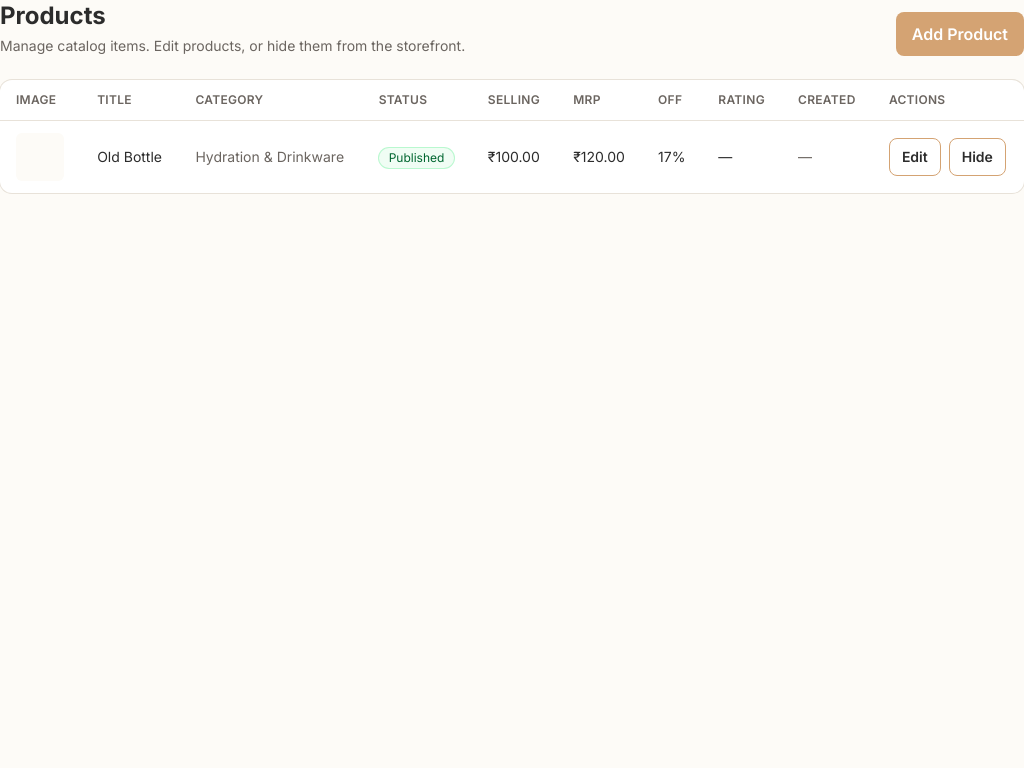
Scenario: AdminProductsPage › hides a product after confirmation and keeps the row
Expected: the text "Old Bottle" is shown, [81, 120, 179, 193]
Click the button "Hide" at (977,157), box [949, 138, 1006, 176]
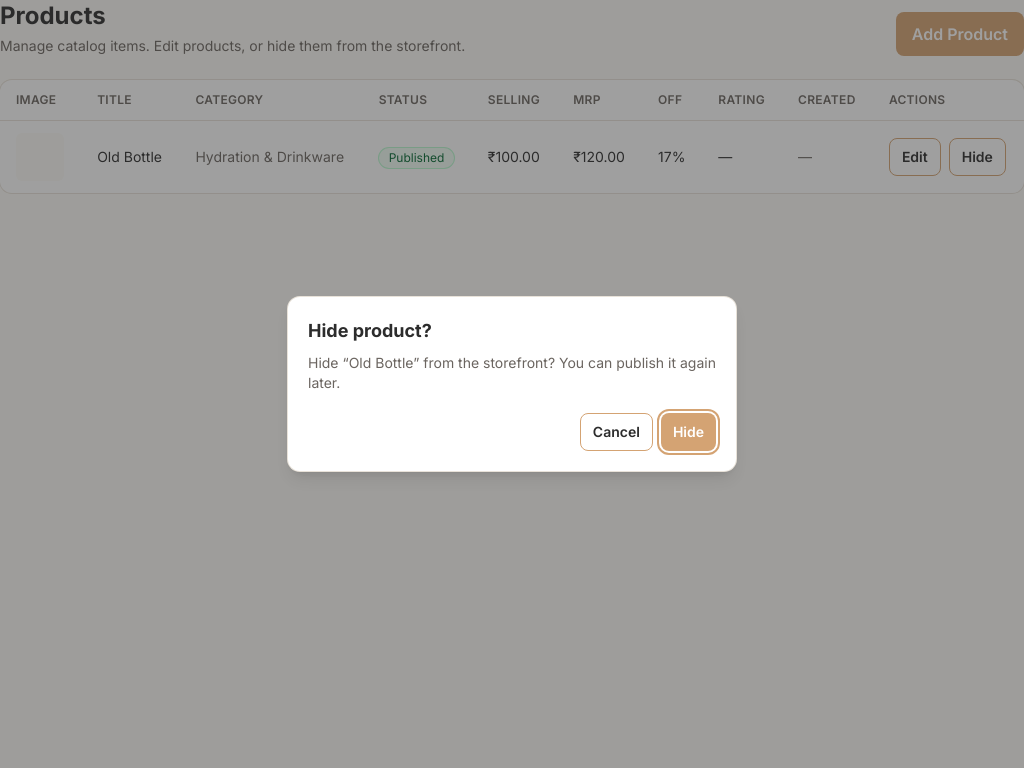
Expected: the dialog is shown, [288, 297, 736, 471]
Click the button "Hide" at (688,432), box [661, 413, 716, 451]
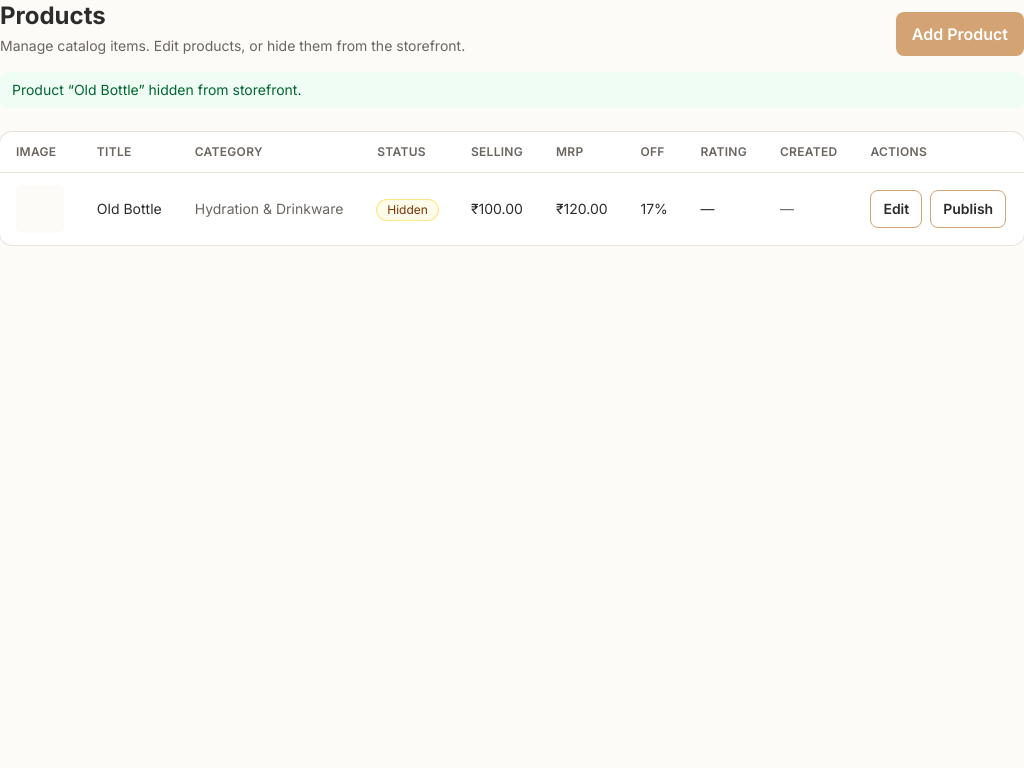
Expected: the text "Product “Old Bottle” hidden from storefront." is shown, [0, 72, 1023, 108]
Expected: the text "Hidden" is shown, [377, 200, 438, 220]
Expected: the button "Publish" is shown, [930, 190, 1006, 228]
